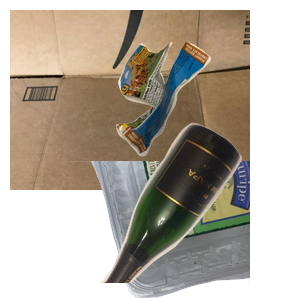cardboard: (10, 10, 250, 190)
glass: (87, 120, 300, 300)
plastic: (23, 161, 263, 300)
trash: (114, 39, 300, 188)
